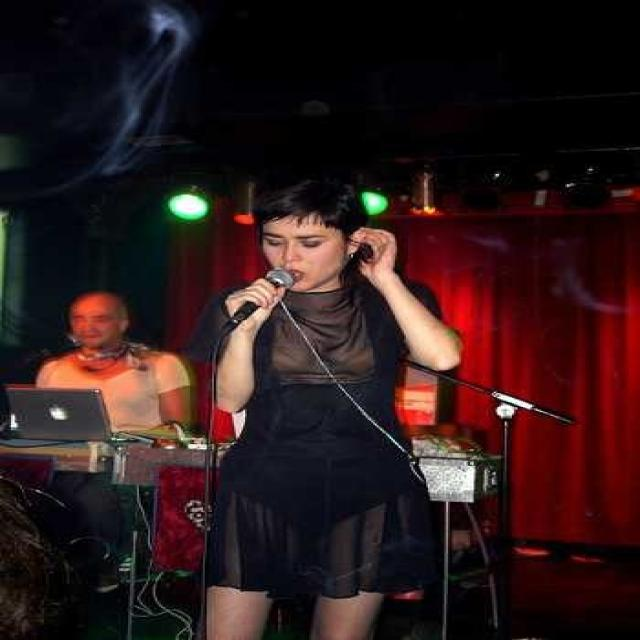microphone: (223, 267, 298, 331)
